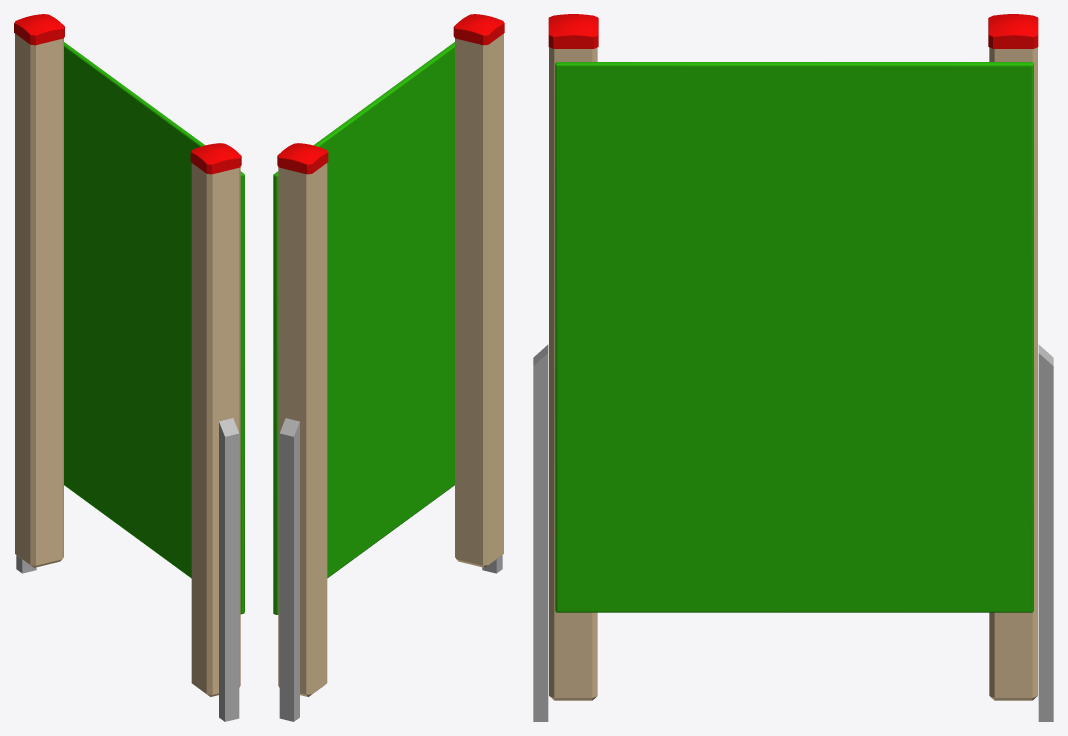
The picture shows the model from 3 angles, left to right: view 1: azimuth 30°, elevation 25°; view 2: azimuth 150°, elevation 25°; view 3: azimuth 270°, elevation 25°; orthographic projection. The views are drawn at different scales.
Parts seen in each view (by area): view 1: zelenieelementy, bejevieelementy, serieelementy, krasnieelementy; view 2: zelenieelementy, bejevieelementy, serieelementy, krasnieelementy; view 3: zelenieelementy, bejevieelementy, serieelementy, krasnieelementy.
Part boxes in pixels (box(x1,y1,x2,y2)): zelenieelementy: box(64, 42, 244, 614); bejevieelementy: box(15, 34, 240, 696); serieelementy: box(16, 418, 239, 721); krasnieelementy: box(14, 14, 241, 174); zelenieelementy: box(273, 42, 454, 614); bejevieelementy: box(278, 33, 503, 696); serieelementy: box(279, 418, 502, 721); krasnieelementy: box(277, 14, 504, 174); zelenieelementy: box(555, 62, 1033, 612); bejevieelementy: box(549, 47, 1037, 700); serieelementy: box(533, 344, 1053, 721); krasnieelementy: box(548, 14, 1038, 48).
Size of the model in its own units: 11.28 by 152 by 103.
